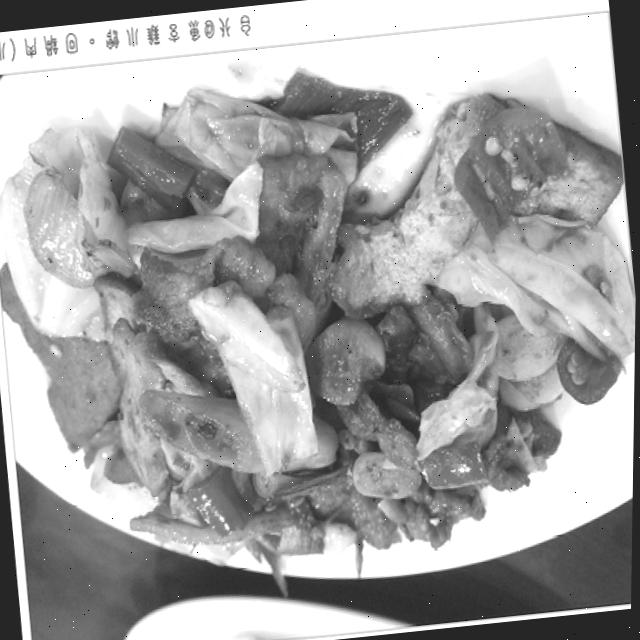猪肉菜式: (0, 35, 640, 619)
